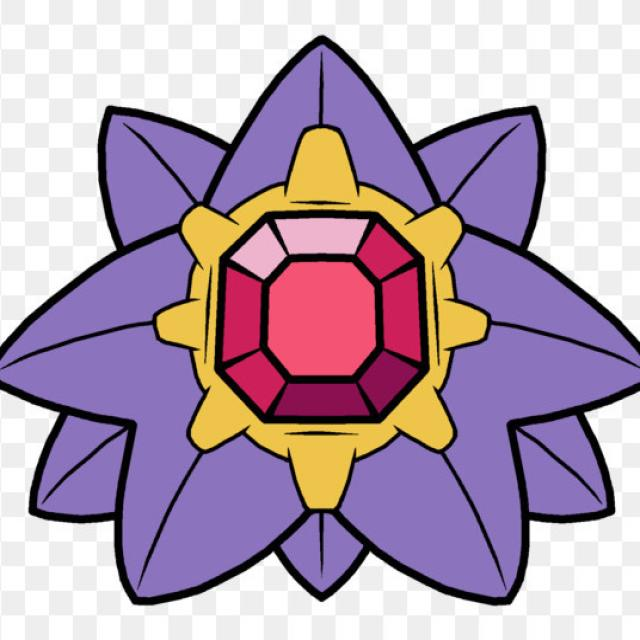Starmie: (88, 90, 546, 606)
